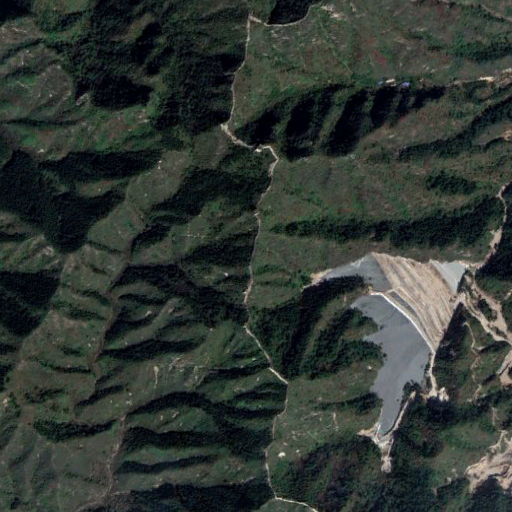tp: (311, 251, 467, 443)
